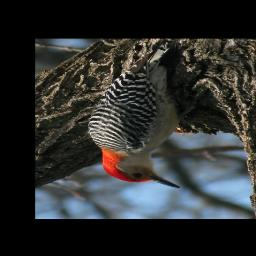Woodpecker: (84, 41, 200, 190)
